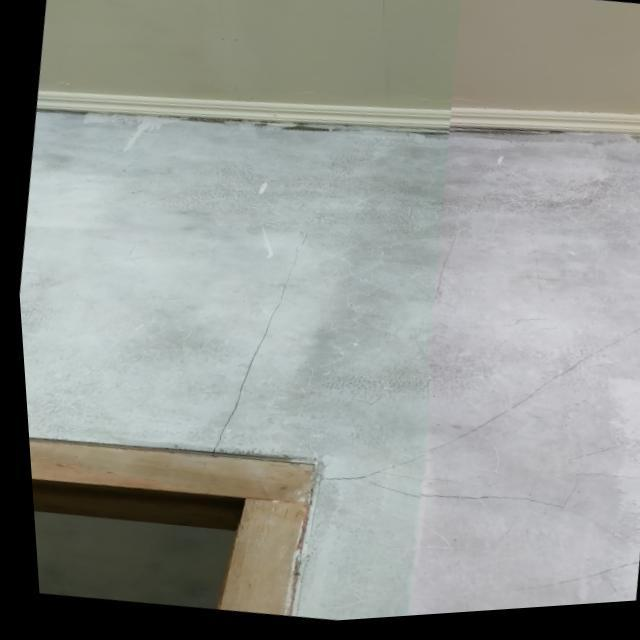Crack: (0, 0, 639, 639), (327, 330, 631, 541), (211, 222, 306, 437)
